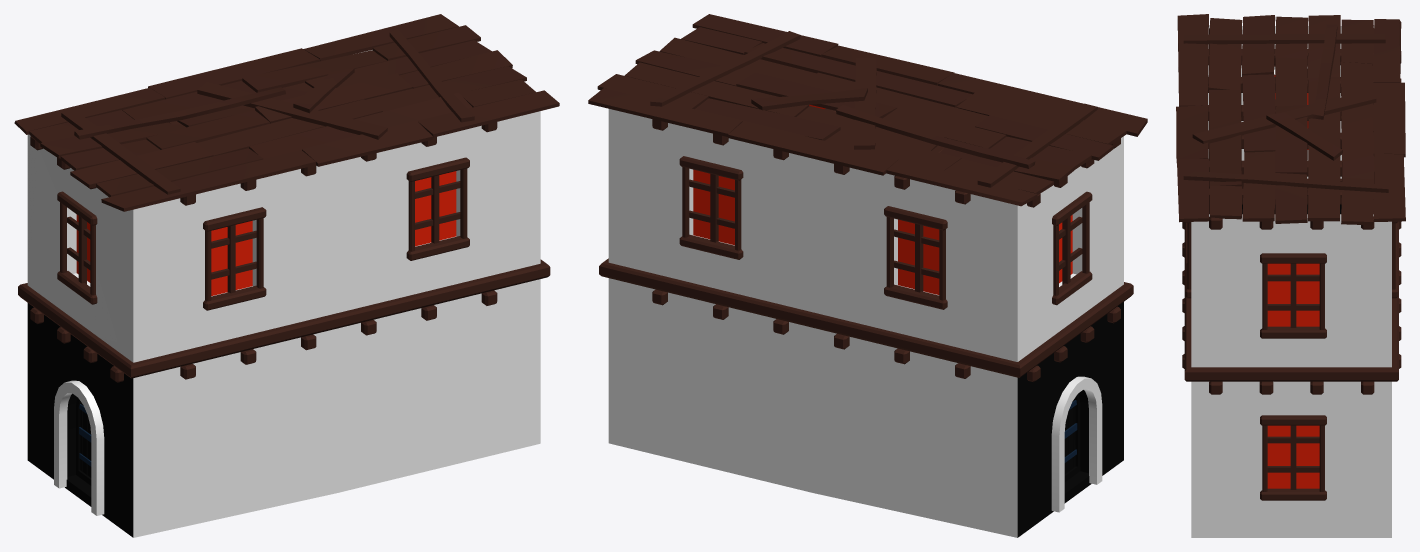
File: civilian_house_34_a.FBX
The picture shows the model from 3 angles, left to right: view 1: azimuth 30°, elevation 25°; view 2: azimuth 150°, elevation 25°; view 3: azimuth 270°, elevation 25°; orthographic projection. The views are drawn at different scales.
Visible parts, largest first — view 1: civilian_house_34_a; view 2: civilian_house_34_a; view 3: civilian_house_34_a.
Boxes of the visible parts, <box> form: civilian_house_34_a: <box>14,14,559,537</box>; civilian_house_34_a: <box>588,14,1147,537</box>; civilian_house_34_a: <box>1176,14,1405,537</box>.
Bounding box in the file's own units: 1107 × 829 × 515.
